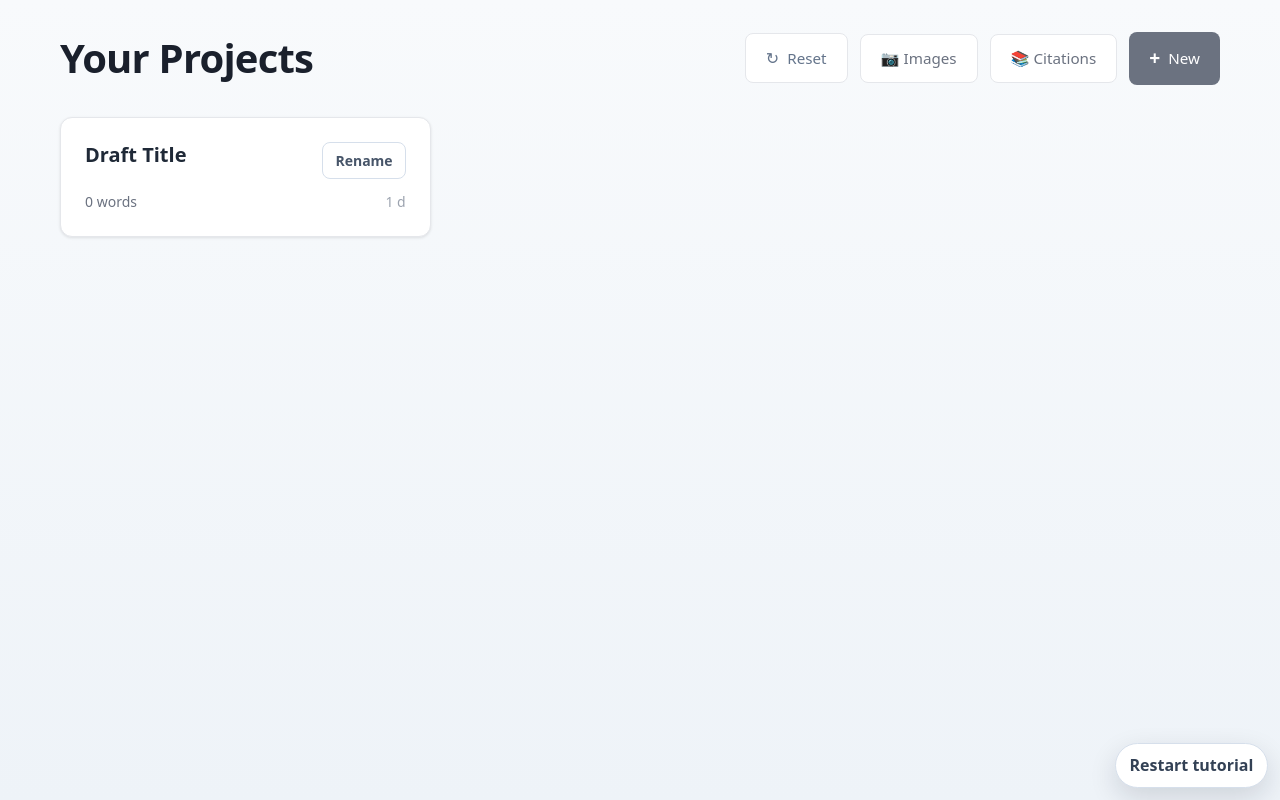
renames a project from the dashboard
The width and height of the screenshot is (1280, 800).
Step 1. Click the button with aria-label "rename draft title" → click(364, 160), box left=322, top=142, right=406, bottom=179
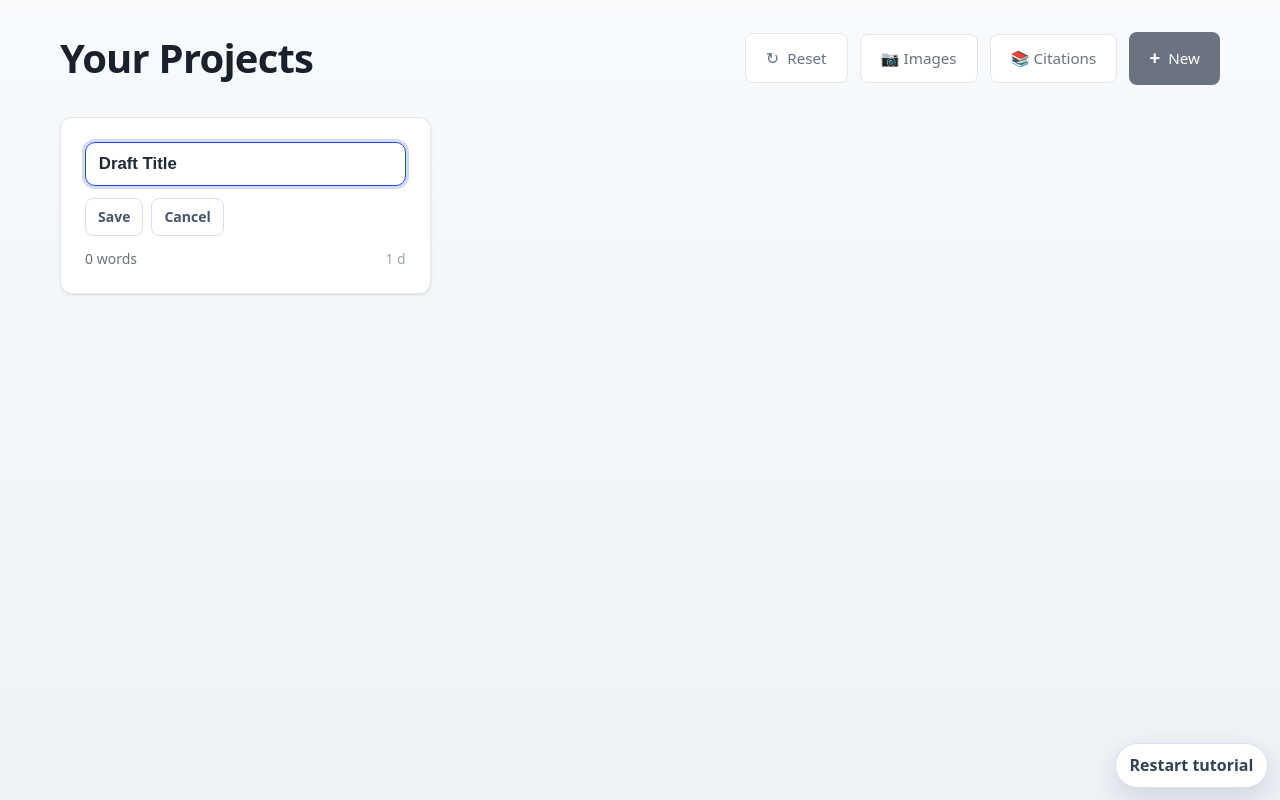
Step 2. Replace the text in the field named "project title" with "Renamed Project" → (245, 164), box left=85, top=142, right=406, bottom=186
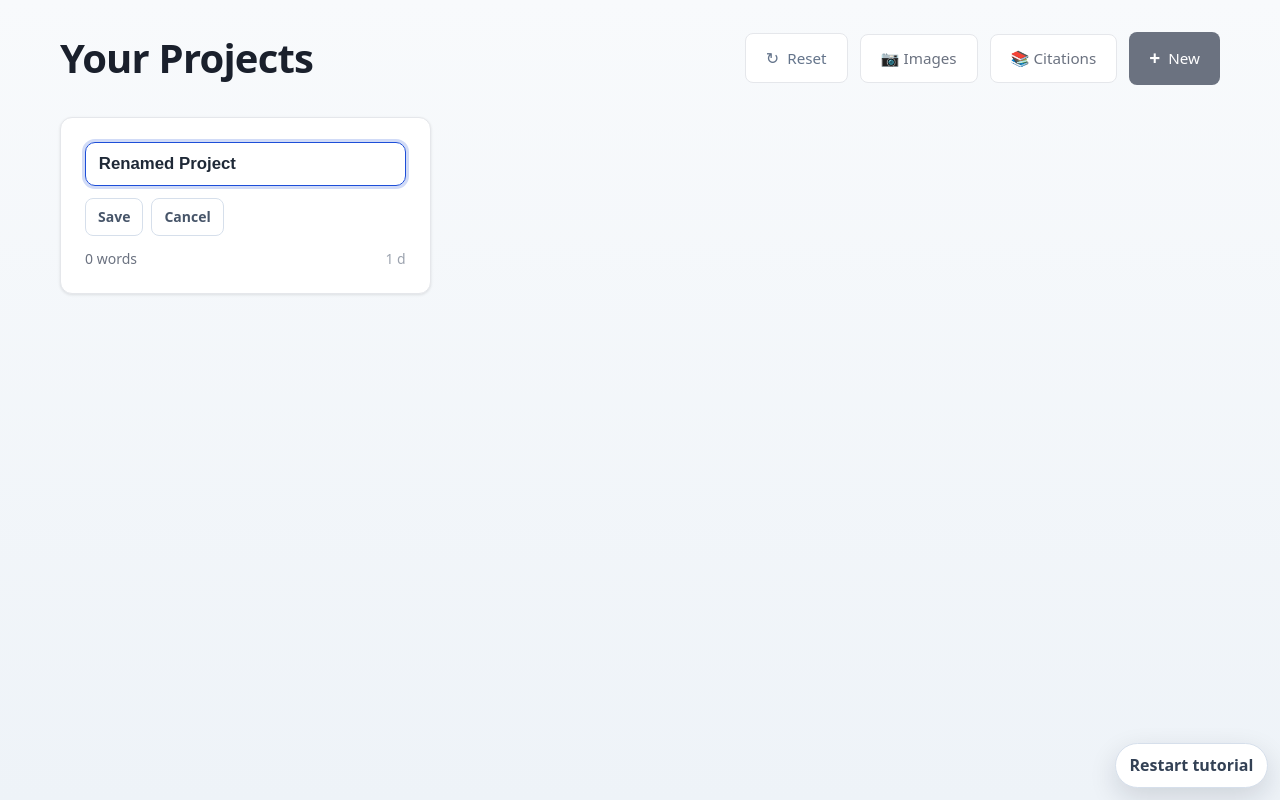
Step 3. Click the button "Save" → click(114, 217), box left=85, top=198, right=143, bottom=236
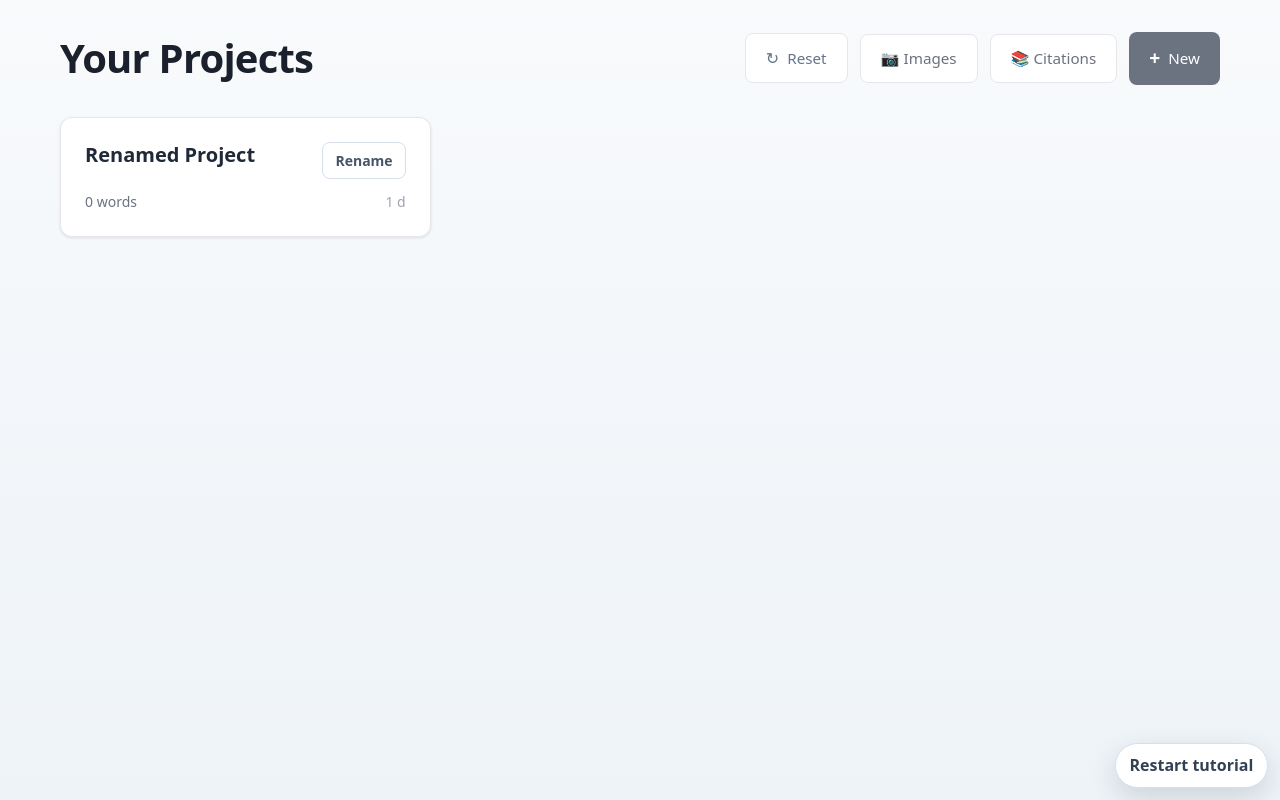
Result: the heading "Renamed Project" is shown at left=85, top=142, right=255, bottom=168
Result: the heading "Renamed Project" reads "Renamed Project" at left=85, top=141, right=255, bottom=168
